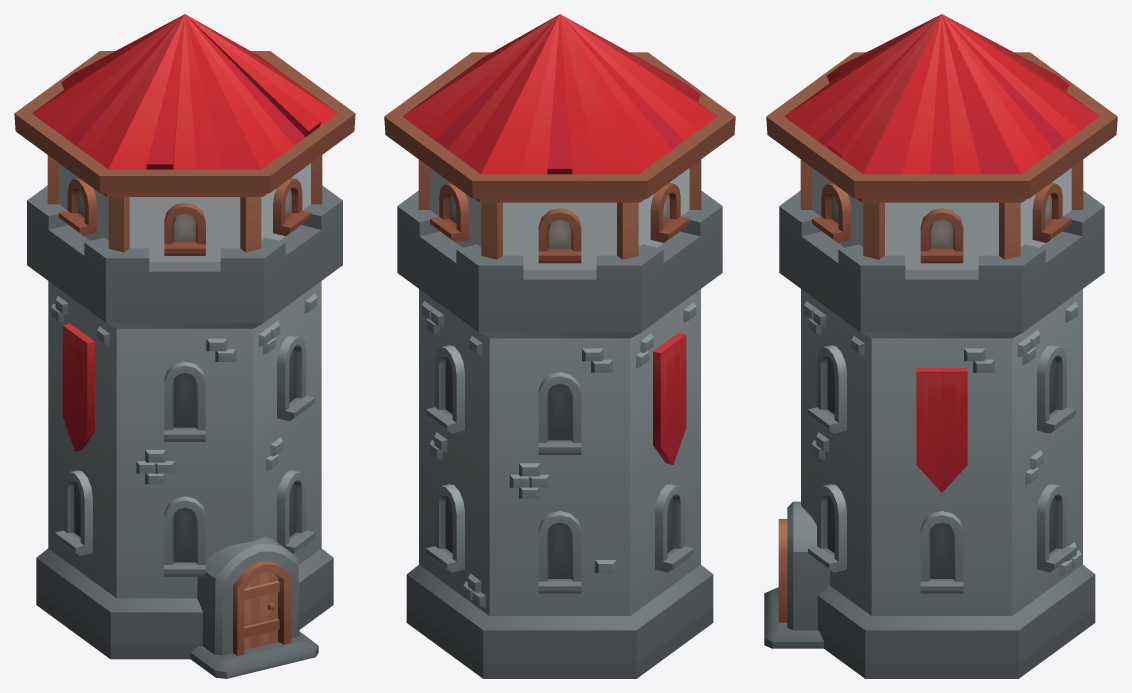
Rendered from kay-torre-vigia-vermelha.gltf.
3 renders of one model, left to right at view 1: azimuth 30°, elevation 25°; view 2: azimuth 150°, elevation 25°; view 3: azimuth 270°, elevation 25°, orthographic. The views are drawn at different scales.
Visible parts, largest first — view 1: building_tower_A_red; view 2: building_tower_A_red; view 3: building_tower_A_red.
Part boxes in pixels (box(x1,y1,x2,y2)): building_tower_A_red: box(14, 14, 355, 678); building_tower_A_red: box(384, 14, 735, 678); building_tower_A_red: box(764, 14, 1117, 678).
Size of the model in its own units: 4.97 by 10.96 by 5.77.
Materials: 1 (1 with a texture image).
